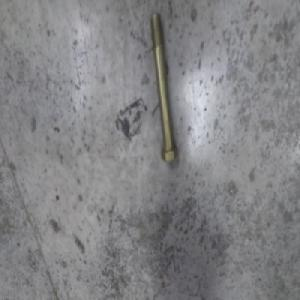Bolt: (149, 13, 178, 162)
